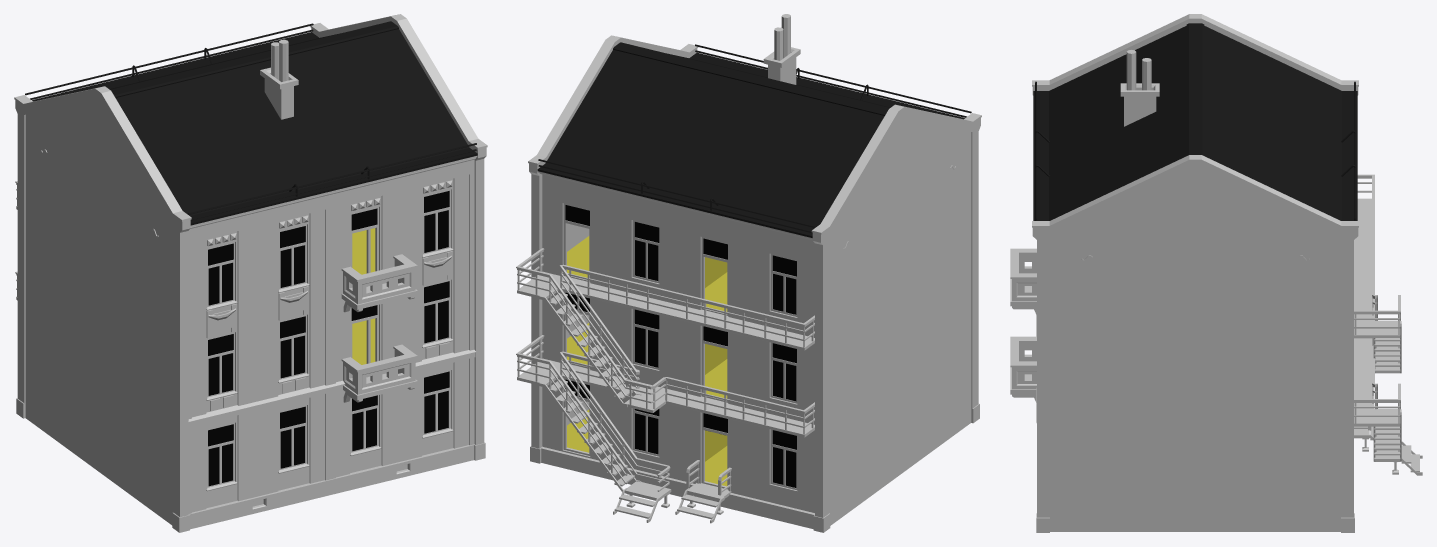
The model's file is SM_seventh_house_1.fbx.
The picture shows the model from 3 angles, left to right: view 1: azimuth 30°, elevation 25°; view 2: azimuth 150°, elevation 25°; view 3: azimuth 270°, elevation 25°; orthographic projection. The views are drawn at different scales.
Visible parts, largest first — view 1: Cylinder_1; view 2: Cylinder_1; view 3: Cylinder_1.
Part boxes in pixels (box(x1,y1,x2,y2)): Cylinder_1: box(14, 14, 487, 532); Cylinder_1: box(516, 14, 981, 532); Cylinder_1: box(1010, 14, 1422, 532).
Bounding box in the file's own units: 1064 × 1390 × 1272.
